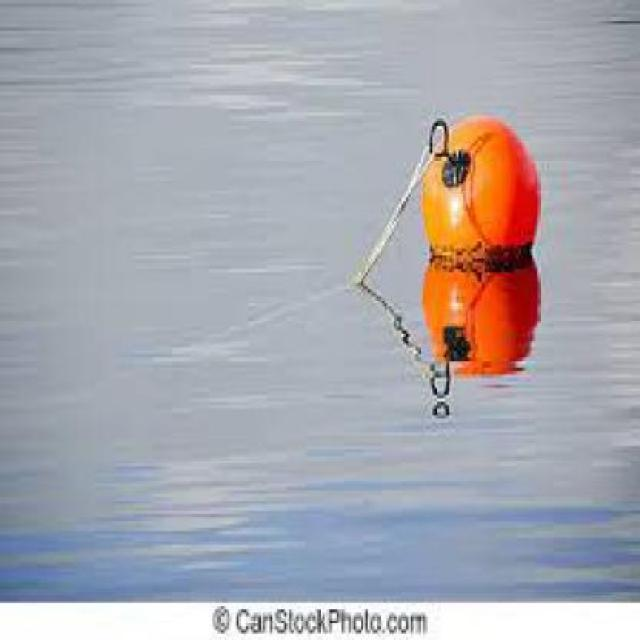a: (352, 103, 567, 311)
